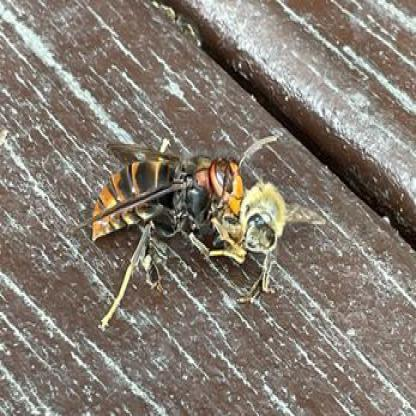Asian Hornet: (87, 138, 244, 326)
Bee: (244, 175, 326, 295)
